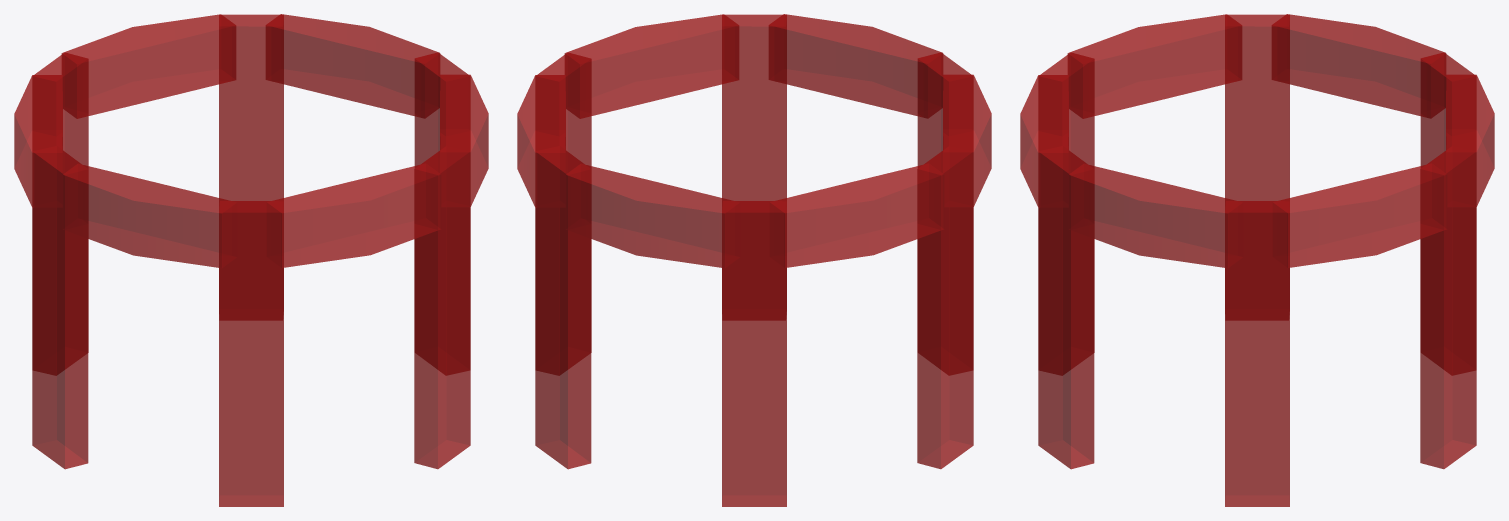
The model's file is SM_Bld_Ruin_Pillar_Arches_Round_01_Collision.fbx.
The picture shows the model from 3 angles, left to right: view 1: azimuth 30°, elevation 25°; view 2: azimuth 150°, elevation 25°; view 3: azimuth 270°, elevation 25°; orthographic projection.
Parts seen in each view (by area): view 1: SM_Bld_Ruin_Pillar_Arches_Round_01_Collision; view 2: SM_Bld_Ruin_Pillar_Arches_Round_01_Collision; view 3: SM_Bld_Ruin_Pillar_Arches_Round_01_Collision.
Boxes of the visible parts, <box> form: SM_Bld_Ruin_Pillar_Arches_Round_01_Collision: <box>14,14,488,506</box>; SM_Bld_Ruin_Pillar_Arches_Round_01_Collision: <box>517,14,991,506</box>; SM_Bld_Ruin_Pillar_Arches_Round_01_Collision: <box>1020,14,1494,506</box>.
Size of the model in its own units: 416 by 286 by 418.
